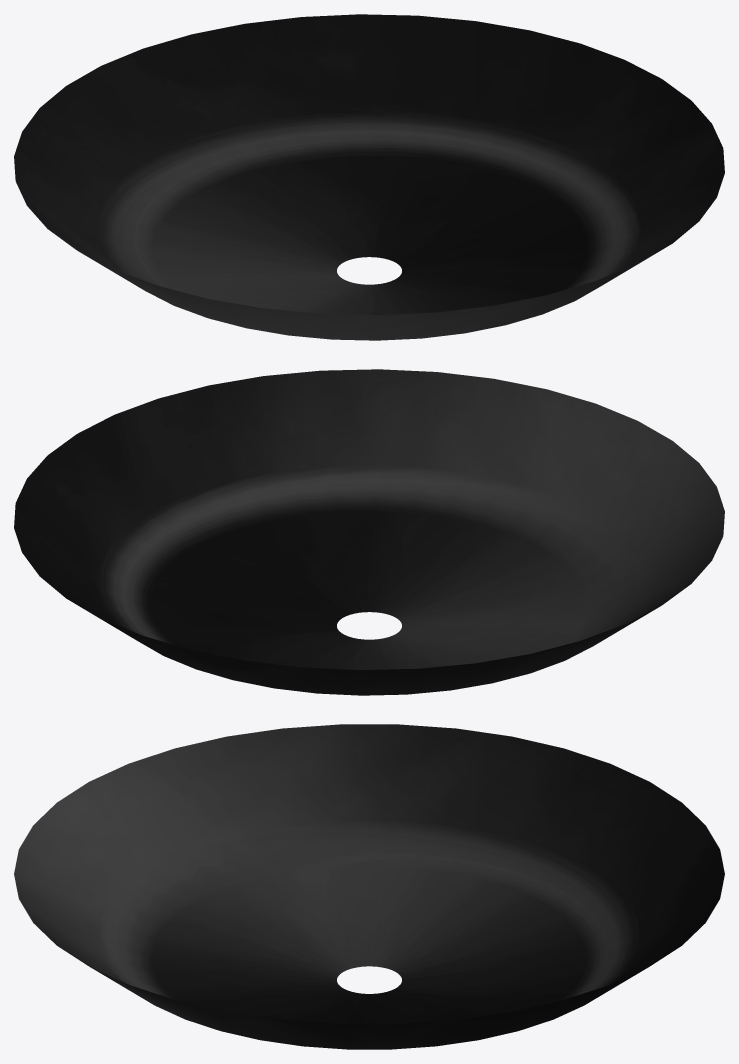
File: Tazon.fbx
The picture shows the model from 3 angles, top to bottom: view 1: azimuth 30°, elevation 25°; view 2: azimuth 150°, elevation 25°; view 3: azimuth 270°, elevation 25°; orthographic projection.
Visible parts, largest first — view 1: Interior; view 2: Interior; view 3: Interior.
Part boxes in pixels (x1,y1,x2,y2): Interior: (14, 14, 724, 340); Interior: (14, 369, 724, 695); Interior: (14, 724, 724, 1049).
Bounding box in the file's own units: 483 × 79.75 × 485.
